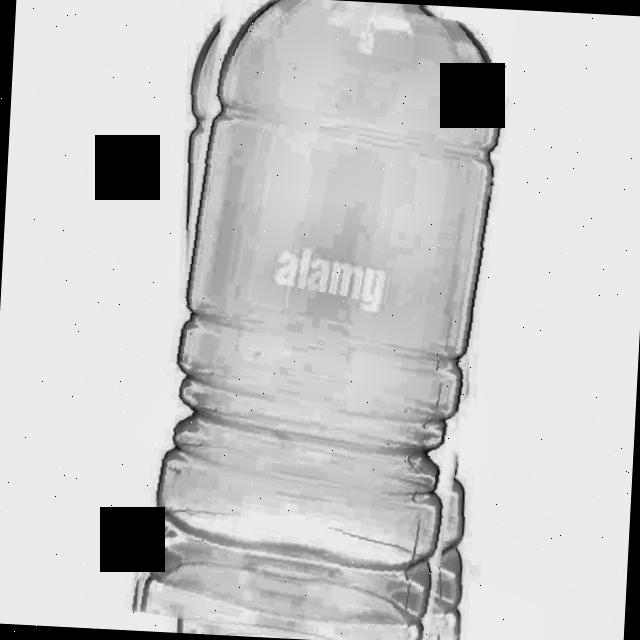bottle: (135, 0, 506, 640)
